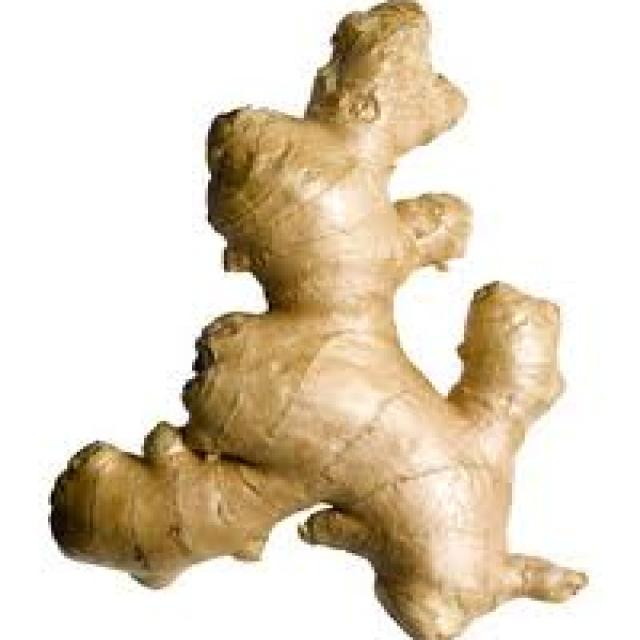ginger: (45, 0, 579, 640)
